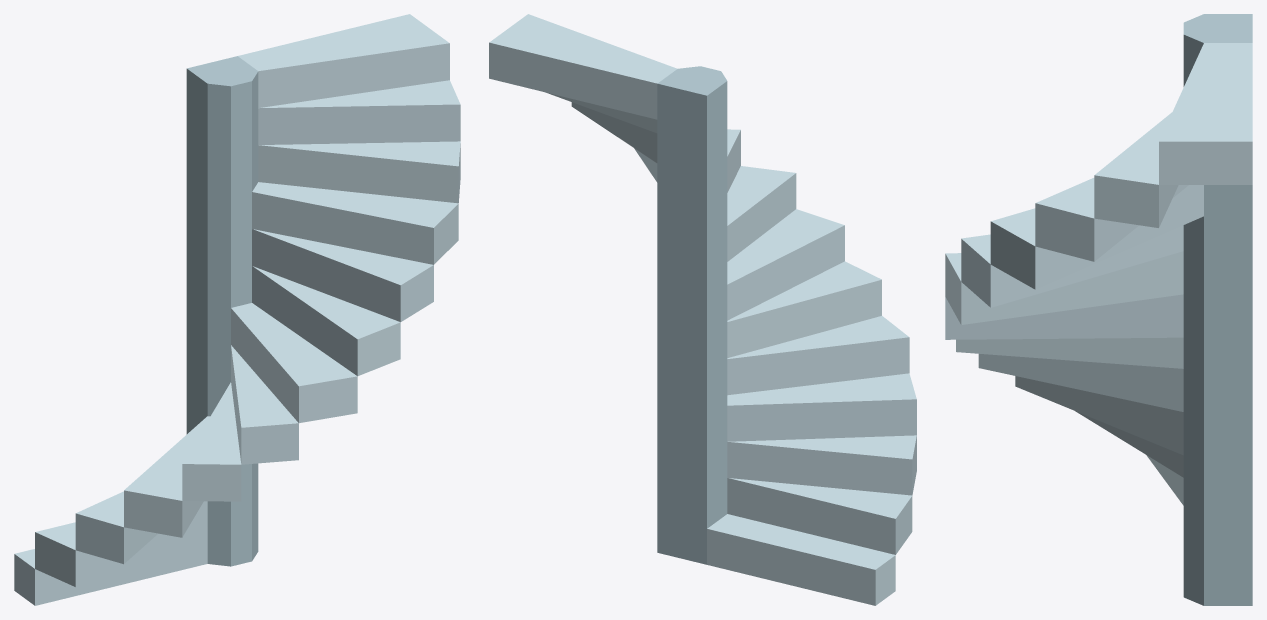
The picture shows the model from 3 angles, left to right: view 1: azimuth 30°, elevation 25°; view 2: azimuth 150°, elevation 25°; view 3: azimuth 270°, elevation 25°; orthographic projection. The views are drawn at different scales.
Visible parts, largest first — view 1: stairsStoneRound; view 2: stairsStoneRound; view 3: stairsStoneRound.
Boxes of the visible parts, x1,y1,x2,y2 form: stairsStoneRound: (14,14,460,605); stairsStoneRound: (489,14,916,605); stairsStoneRound: (945,14,1252,605).
Size of the model in its own units: 0.8618 by 1 by 0.4949.
